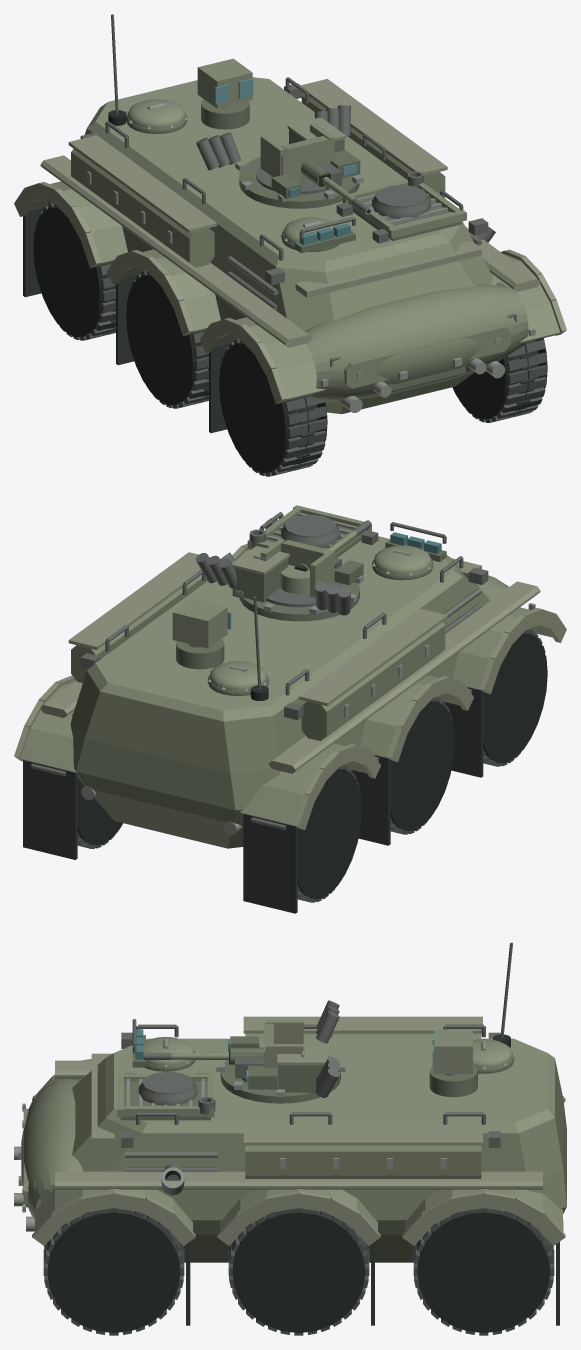
The model's file is spheres-ground-recon.glb.
3 renders of one model, top to bottom at view 1: azimuth 30°, elevation 25°; view 2: azimuth 150°, elevation 25°; view 3: azimuth 270°, elevation 25°, orthographic.
Visible parts, largest first — view 1: Spheres reconnaissance vehicle; view 2: Spheres reconnaissance vehicle; view 3: Spheres reconnaissance vehicle.
Part boxes in pixels (<box>): Spheres reconnaissance vehicle: <box>14,14,566,476</box>; Spheres reconnaissance vehicle: <box>14,505,566,913</box>; Spheres reconnaissance vehicle: <box>14,942,566,1335</box>.
Bounding box in the file's own units: 2.72 × 2.7 × 4.59.
